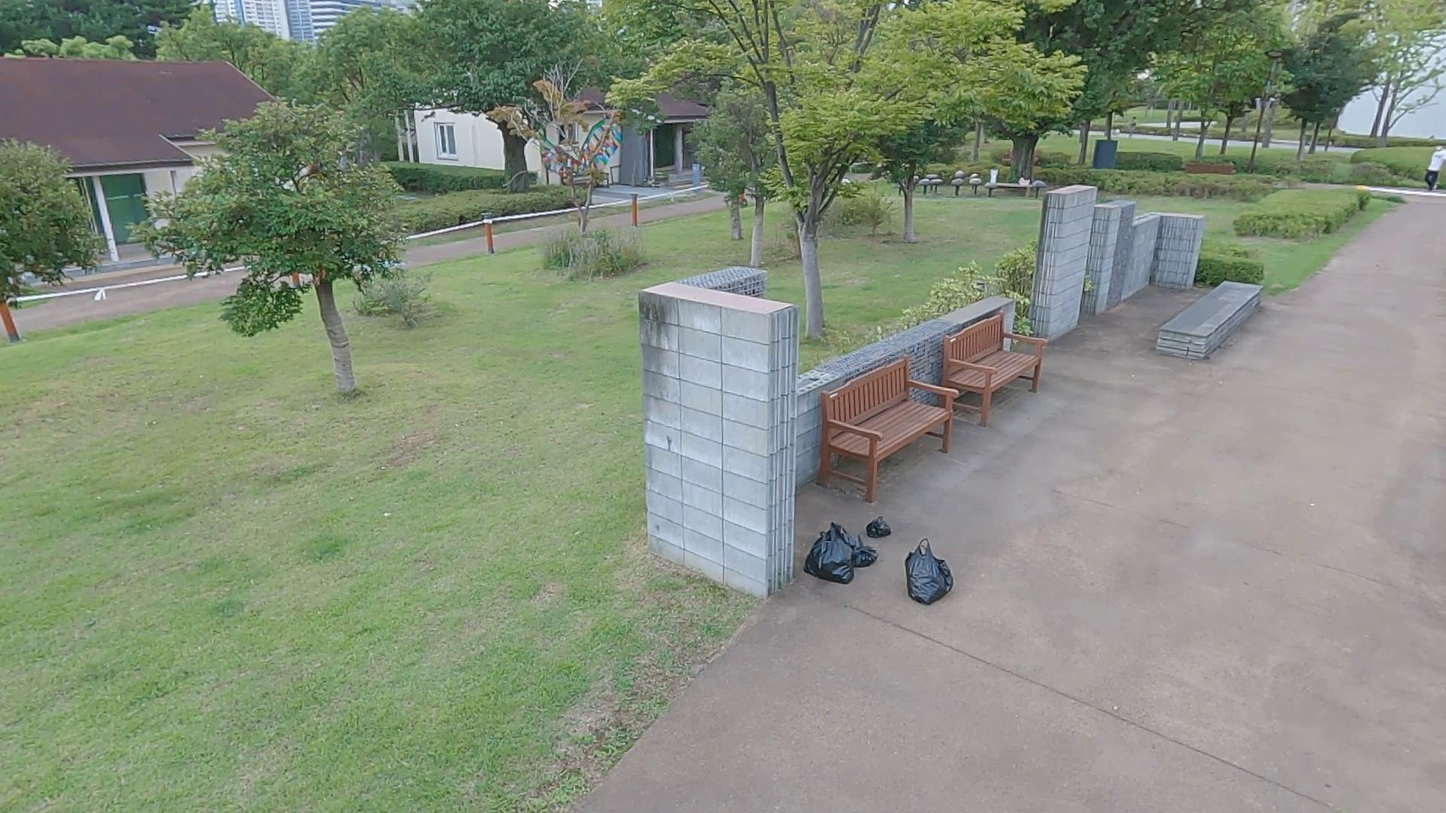person: (1423, 141, 1446, 190)
trash: (904, 536, 955, 605), (804, 526, 856, 586), (844, 534, 877, 570), (862, 513, 892, 541)
